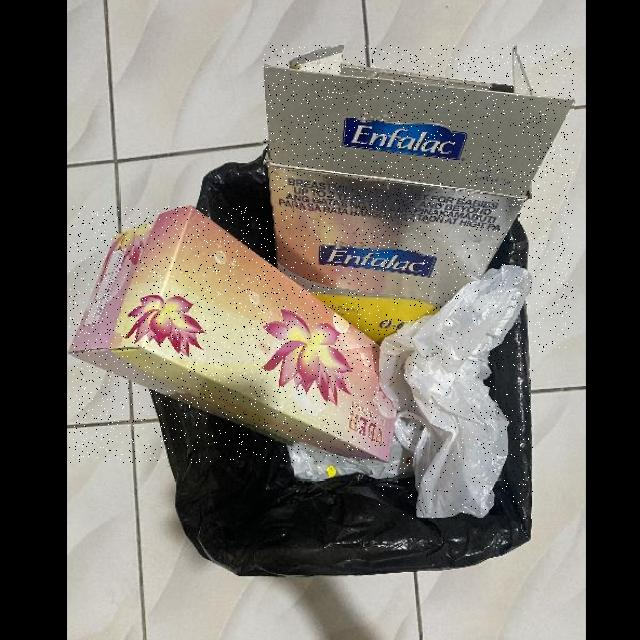paper: (264, 46, 574, 352), (69, 207, 407, 463)
plastic: (380, 268, 533, 519)
